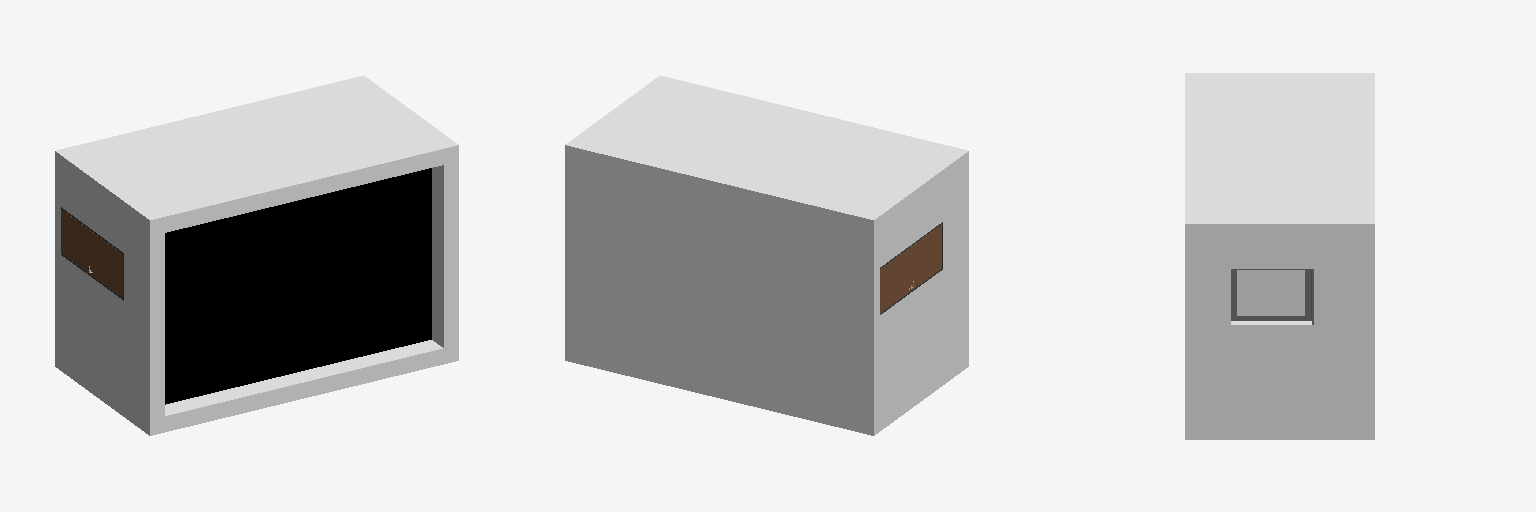
The model's file is Projekt1.obj.
The picture shows the model from 3 angles: view 1: azimuth 30°, elevation 25°; view 2: azimuth 150°, elevation 25°; view 3: azimuth 270°, elevation 25°; orthographic projection.
Parts seen in each view (by area): view 1: Ziegel_300, Raster_500_x_500, STB_200, ML_-_885_x_2135; view 2: STB_200, Ziegel_300, ML_-_885_x_2135; view 3: Ziegel_300, STB_200, 1100_x_1400.
Part boxes in pixels (left/top/right/bottom): Ziegel_300: left=61, top=80, right=458, bottom=435; Raster_500_x_500: left=165, top=168, right=431, bottom=404; STB_200: left=55, top=75, right=369, bottom=370; ML_-_885_x_2135: left=61, top=207, right=123, bottom=300; STB_200: left=565, top=141, right=879, bottom=435; Ziegel_300: left=571, top=75, right=968, bottom=430; ML_-_885_x_2135: left=880, top=222, right=942, bottom=314; Ziegel_300: left=1185, top=73, right=1362, bottom=439; STB_200: left=1363, top=73, right=1374, bottom=439; 1100_x_1400: left=1231, top=269, right=1313, bottom=324.
Size of the model in its own units: 6.08 by 4 by 3.2.